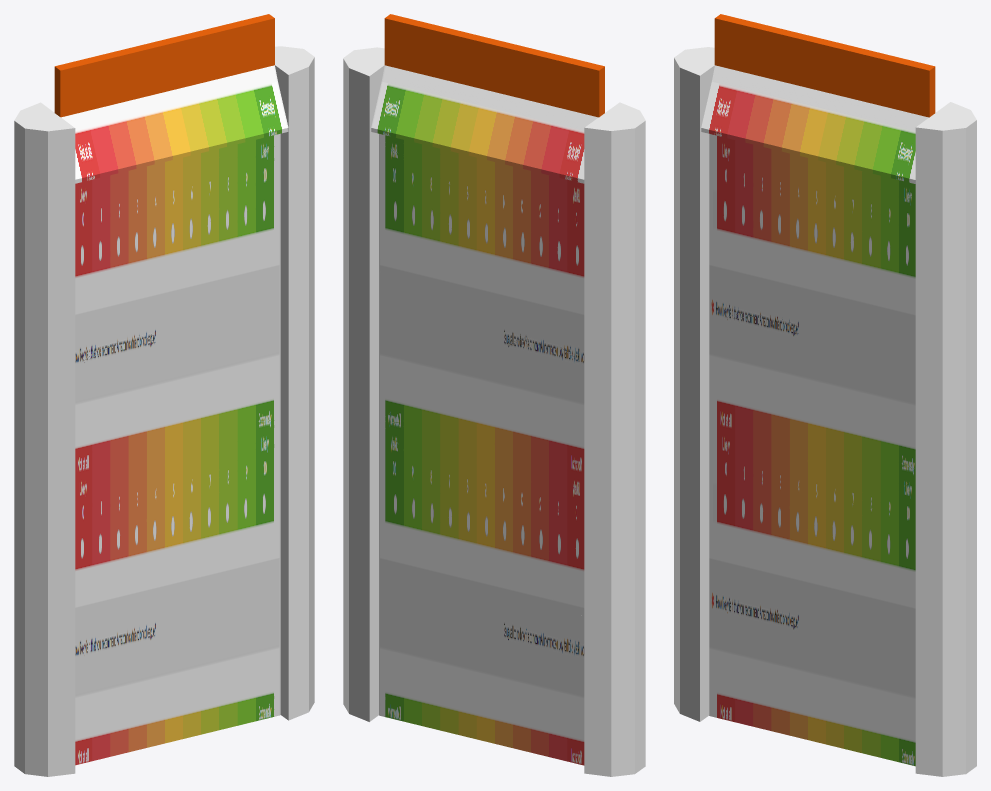
3 views of the same model, side by side, from view 1: azimuth 30°, elevation 25°; view 2: azimuth 150°, elevation 25°; view 3: azimuth 330°, elevation 25° (orthographic).
Parts seen in each view (by area): view 1: Body_sh_3, Body_sh_6, Body_sh_11, Body_sh_16, Body_sh_19, Body_sh_5, Body_sh_7, Body_sh_10, Body_sh_17, Body_sh_8, Body_sh_23, Body_sh_2 (+8 smaller); view 2: Body_sh_3, Body_sh_11, Body_sh_4, Body_sh_16, Body_sh_5, Body_sh_6, Body_sh_7, Body_sh_19, Body_sh_10, Body_sh_17, Body_sh_8, Body_sh_24 (+10 smaller); view 3: Body_sh_6, Body_sh_3, Body_sh_11, Body_sh_5, Body_sh_7, Body_sh_23, Body_sh_10, Body_sh_24, Body_sh_16, Body_sh_19, Body_sh_2, Body_sh_25 (+8 smaller).
Boxes of the visible parts, bbox=[...] form: Body_sh_3: bbox=[75, 557, 280, 765]; Body_sh_6: bbox=[75, 333, 249, 610]; Body_sh_11: bbox=[54, 14, 288, 165]; Body_sh_16: bbox=[14, 104, 75, 399]; Body_sh_19: bbox=[14, 382, 75, 637]; Body_sh_5: bbox=[102, 157, 254, 333]; Body_sh_7: bbox=[133, 143, 280, 356]; Body_sh_10: bbox=[165, 419, 280, 595]; Body_sh_17: bbox=[14, 621, 75, 776]; Body_sh_8: bbox=[193, 250, 280, 422]; Body_sh_23: bbox=[280, 206, 314, 424]; Body_sh_2: bbox=[75, 177, 119, 366]; Body_sh_3: bbox=[379, 559, 584, 765]; Body_sh_11: bbox=[371, 14, 604, 158]; Body_sh_4: bbox=[401, 386, 584, 616]; Body_sh_16: bbox=[584, 102, 645, 397]; Body_sh_5: bbox=[400, 154, 566, 338]; Body_sh_6: bbox=[438, 336, 584, 536]; Body_sh_7: bbox=[379, 142, 526, 364]; Body_sh_19: bbox=[584, 376, 645, 632]; Body_sh_10: bbox=[379, 421, 485, 591]; Body_sh_17: bbox=[584, 630, 645, 776]; Body_sh_8: bbox=[379, 271, 456, 422]; Body_sh_24: bbox=[343, 526, 378, 721]; Body_sh_6: bbox=[709, 308, 892, 564]; Body_sh_3: bbox=[709, 553, 915, 766]; Body_sh_11: bbox=[714, 14, 935, 183]; Body_sh_5: bbox=[745, 142, 897, 313]; Body_sh_7: bbox=[776, 196, 915, 366]; Body_sh_23: bbox=[915, 276, 976, 484]; Body_sh_10: bbox=[808, 460, 915, 627]; Body_sh_24: bbox=[915, 587, 976, 776]; Body_sh_16: bbox=[674, 47, 714, 332]; Body_sh_19: bbox=[674, 322, 709, 570]; Body_sh_2: bbox=[709, 134, 762, 321]; Body_sh_25: bbox=[915, 477, 976, 622].
Size of the model in its own units: 1979 by 4505 by 424.
